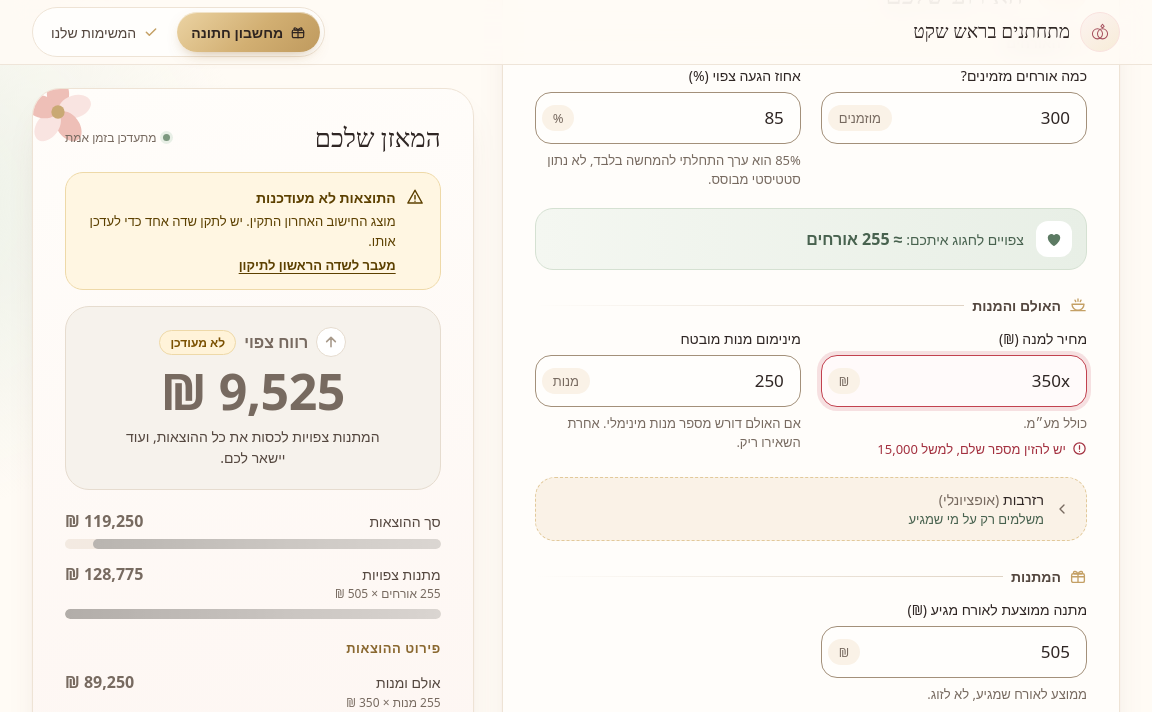
Test case: Budget summary — empty, error and outdated states › counts multiple invalid fields
The image size is (1152, 712).
Earlier steps of the test are not shown.
(page scrolled)
Type "y" into the field labelled "מתנה ממוצעת לאורח מגיע (₪)" at coordinates (973, 652), box [860,628,1086,675]
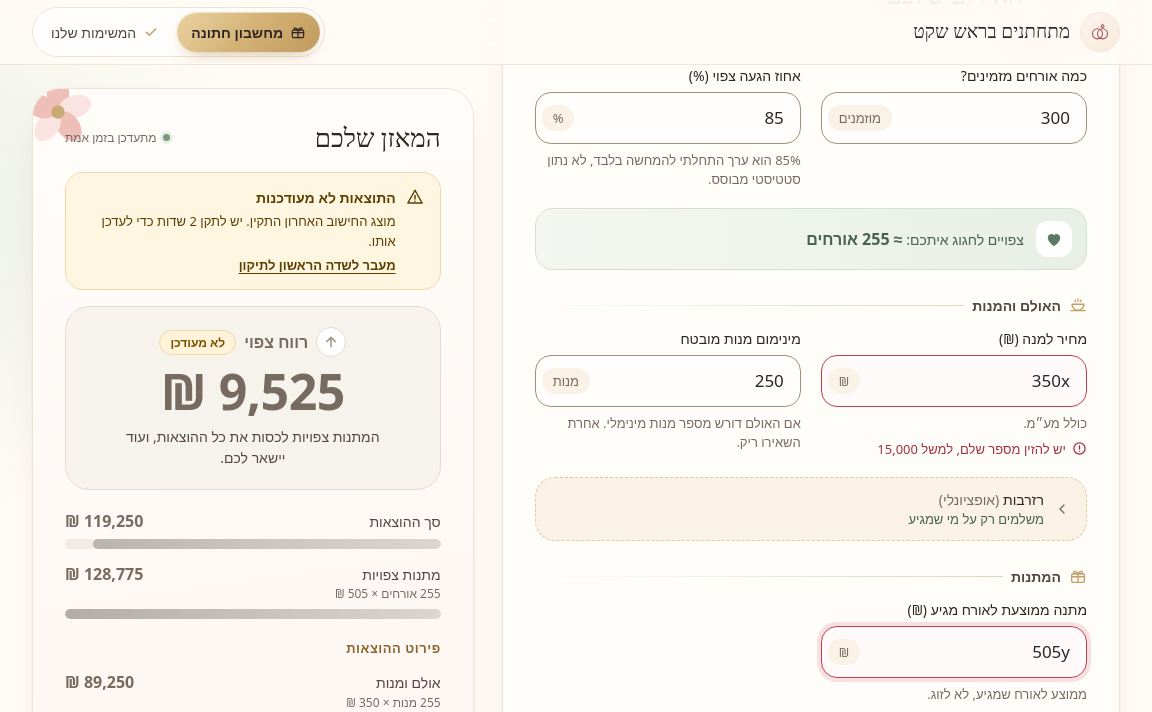
Now the text "מוצג החישוב האחרון התקין. יש לתקן 2 שדות כדי לעדכן אותו." is shown, box [82,211,396,251]
